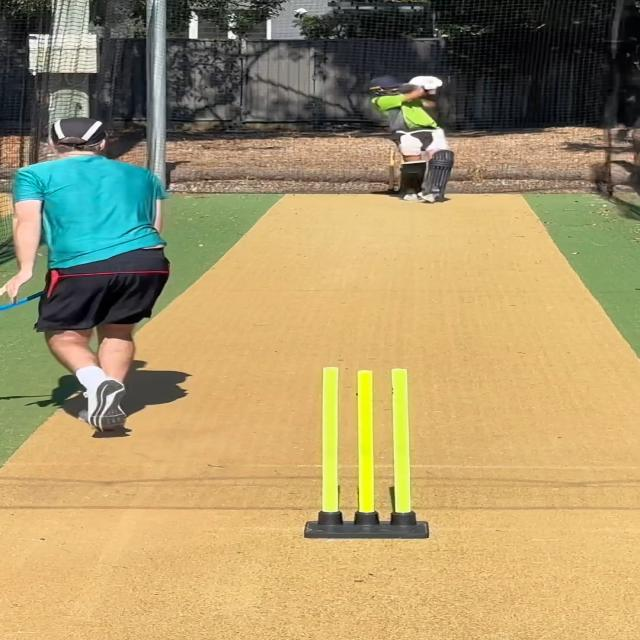stump: (298, 363, 431, 541)
